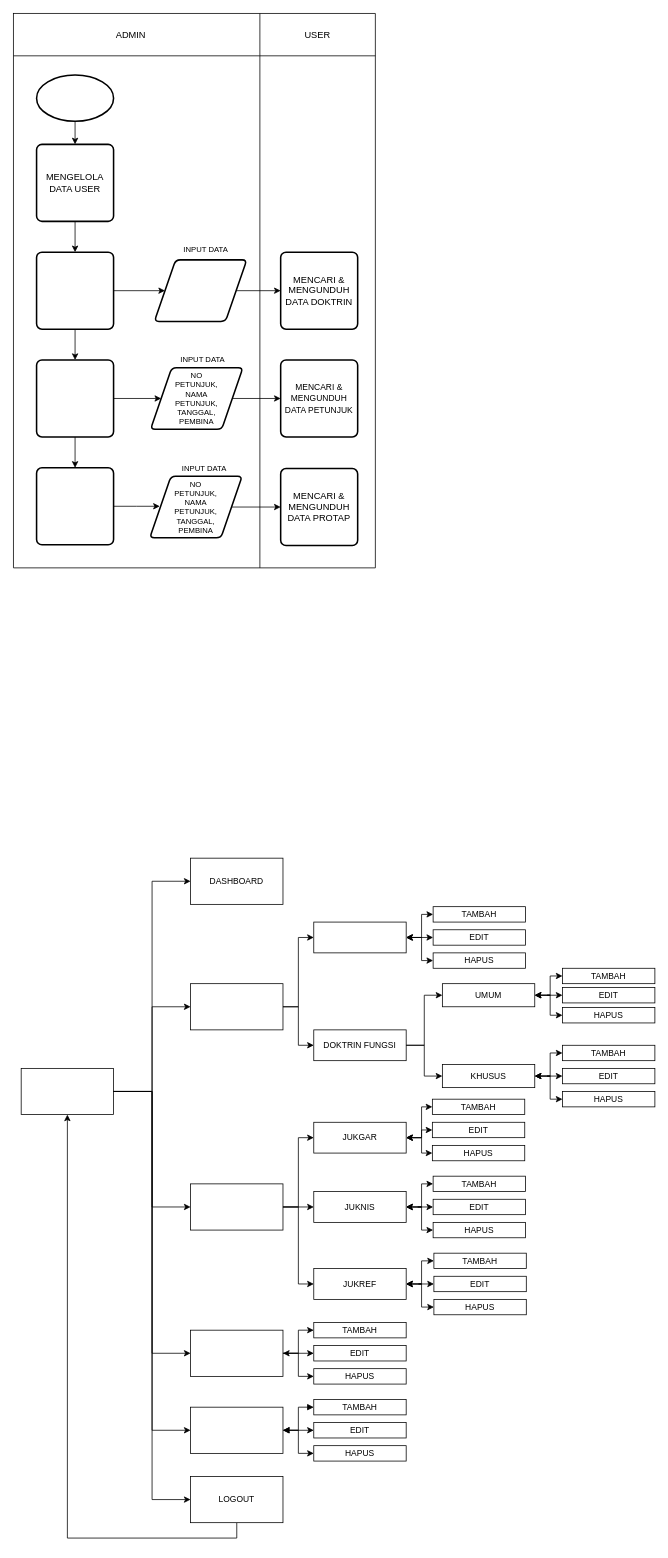
Image size: 668x1558. Some labels were removed from this diagram. The box of each missing label's shape, as (x1, y1, x2, y2) in pixels:
DOKTRIN: (190, 983, 283, 1030)
DOKTRIN OPERASI: (313, 921, 406, 953)
LOGIN: (20, 1068, 114, 1115)
MENGELOLA DATA DOKTRIN: (35, 251, 114, 330)
MENGELOLA DATA PETUNJUK: (35, 359, 114, 437)
MENGELOLA DATA PROTAP: (35, 467, 114, 545)
NO DOKTRIN, NAMA DOKTRIN, TANGGAL, PEMBINA: (153, 259, 247, 322)
PETUNJUK: (190, 1183, 283, 1230)
PROTAP: (190, 1329, 283, 1376)
START: (35, 74, 114, 122)
USER MANAJEMEN: (190, 1406, 283, 1453)
